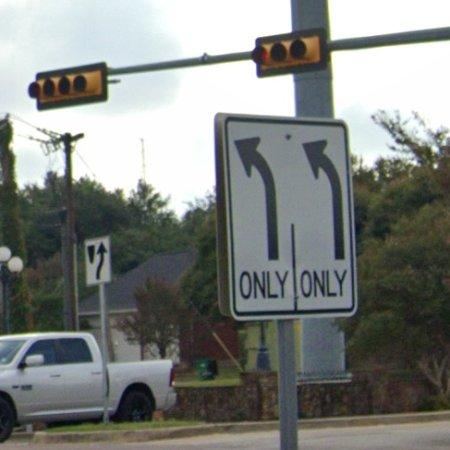traffic lights: (249, 25, 328, 78), (28, 62, 109, 111)
